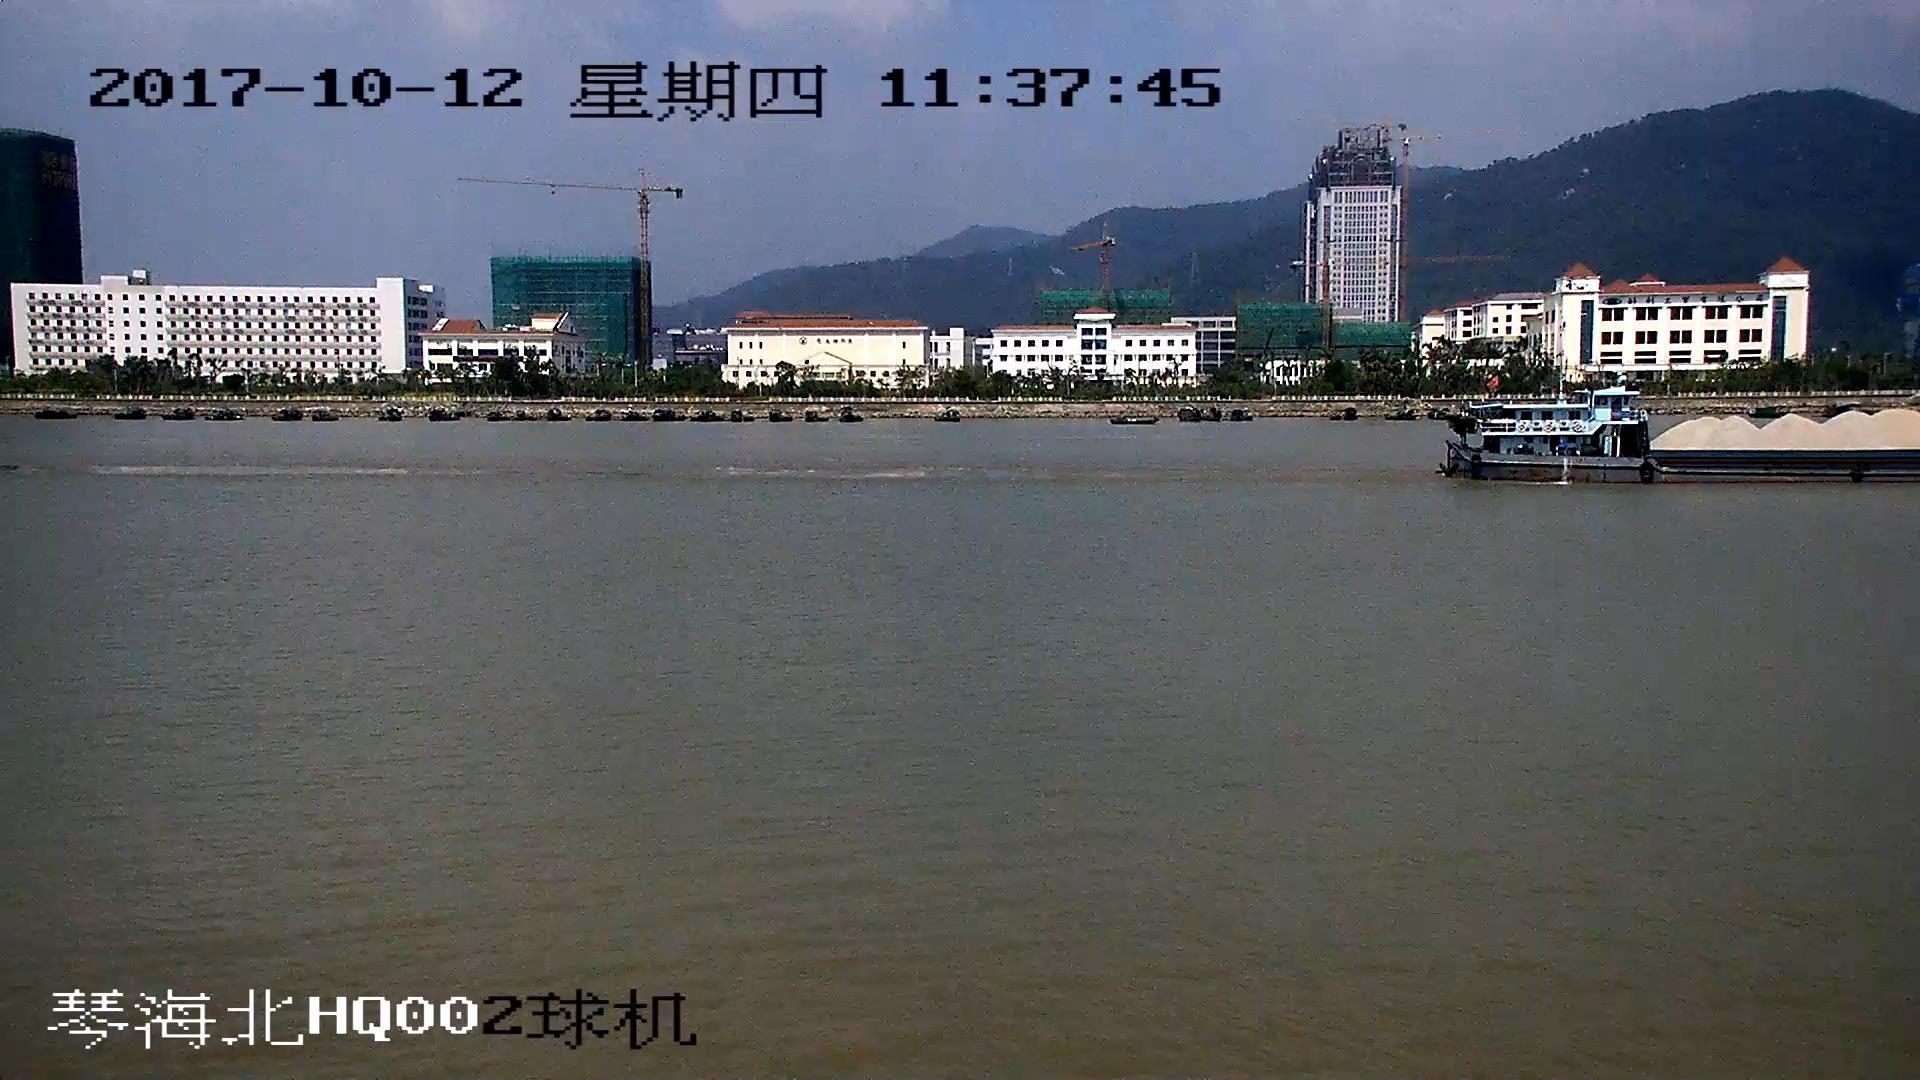Ship: (1451, 393, 1920, 483)
